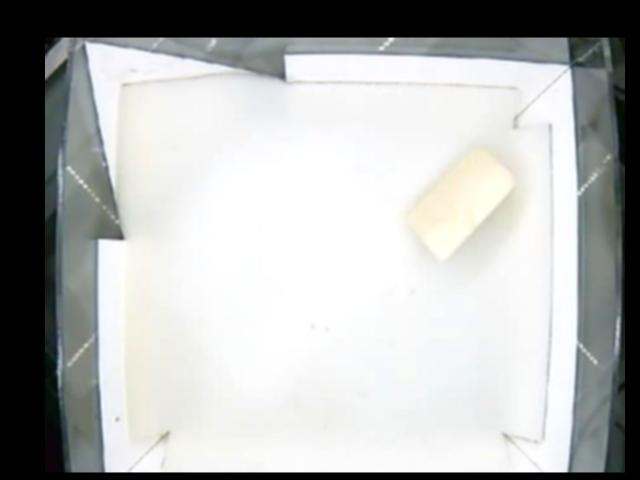Mooli: (402, 148, 514, 264)
